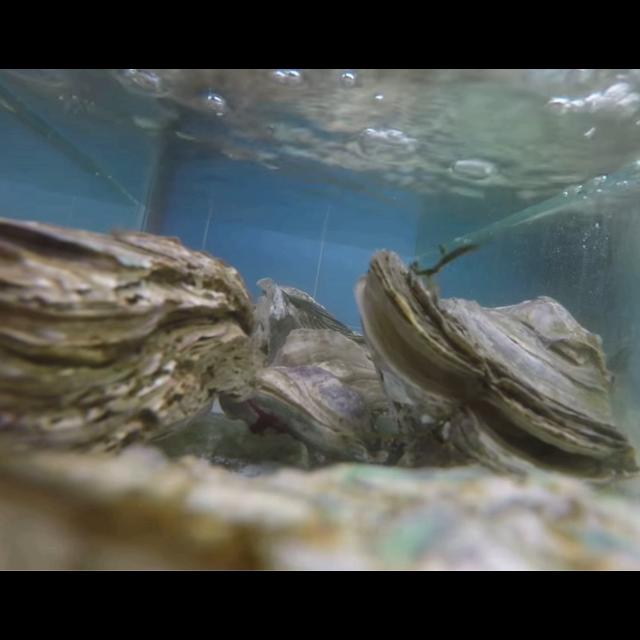Oyster-Closed: (1, 218, 258, 474), (248, 329, 414, 469)
Oyster-Indeterminate: (0, 444, 640, 572), (254, 278, 370, 369)
Oyster-Open: (356, 249, 640, 493)
